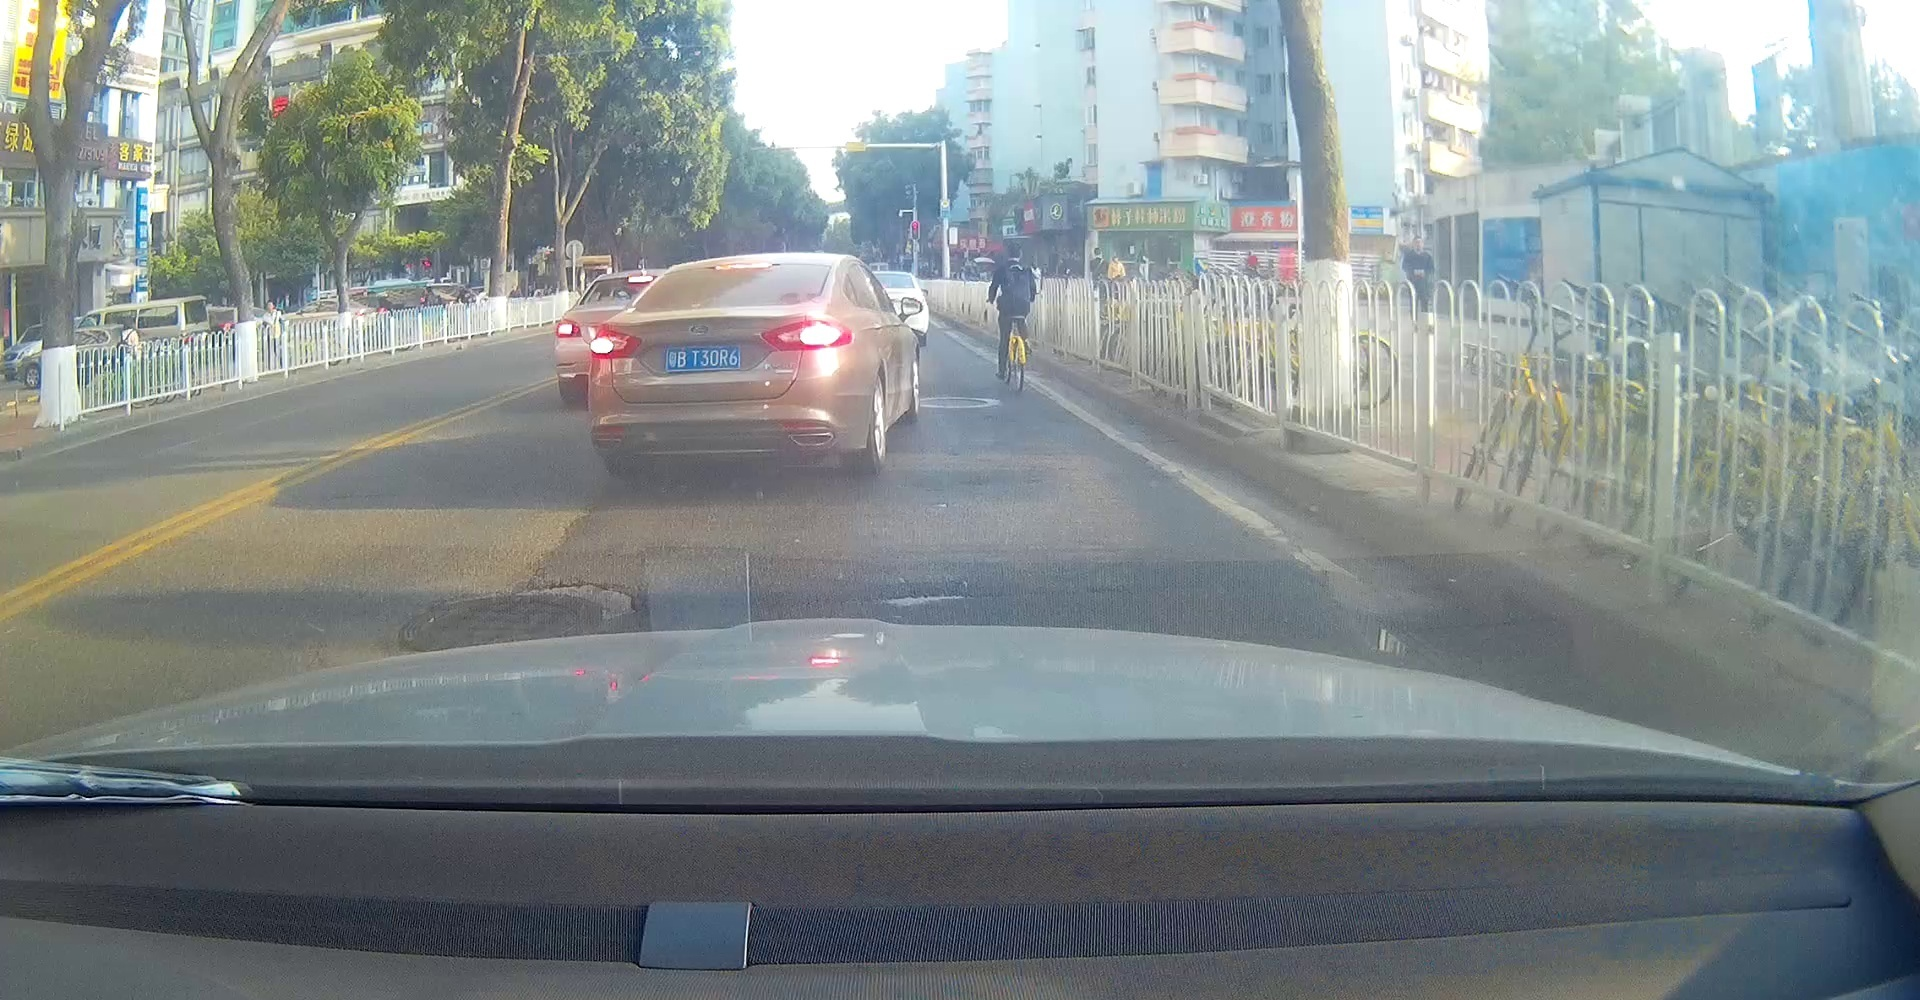L_light: (589, 326, 643, 360)
R_light: (759, 319, 855, 353)
T_light: (664, 345, 742, 371), (715, 263, 773, 270)
day-brake: (585, 251, 858, 475)
